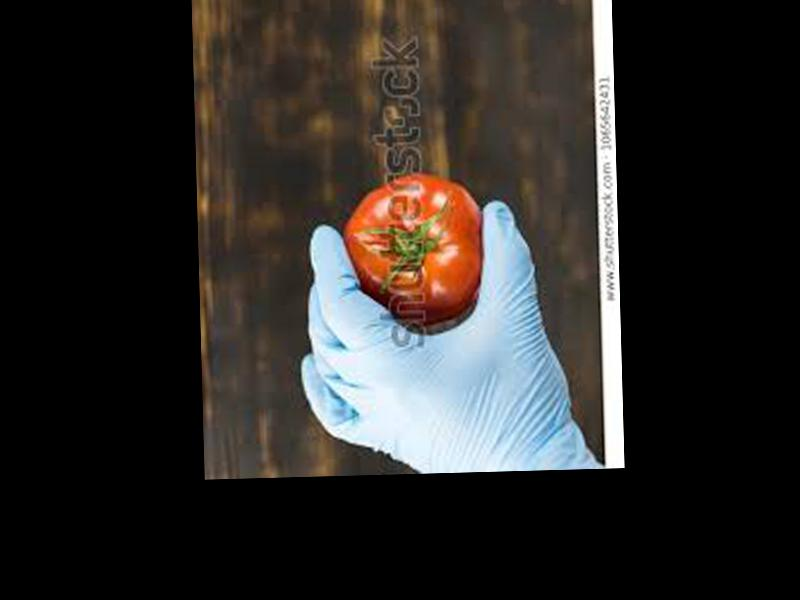Tomato: (341, 170, 486, 328)
